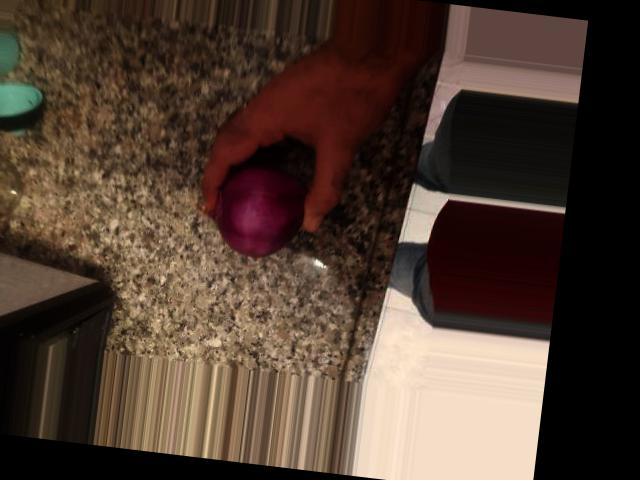onion: (195, 166, 339, 271)
